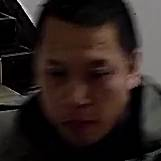qg: (29, 15, 155, 141)
